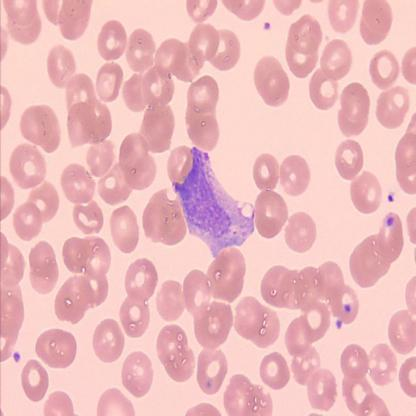Myelocyte: (171, 149, 259, 257)
